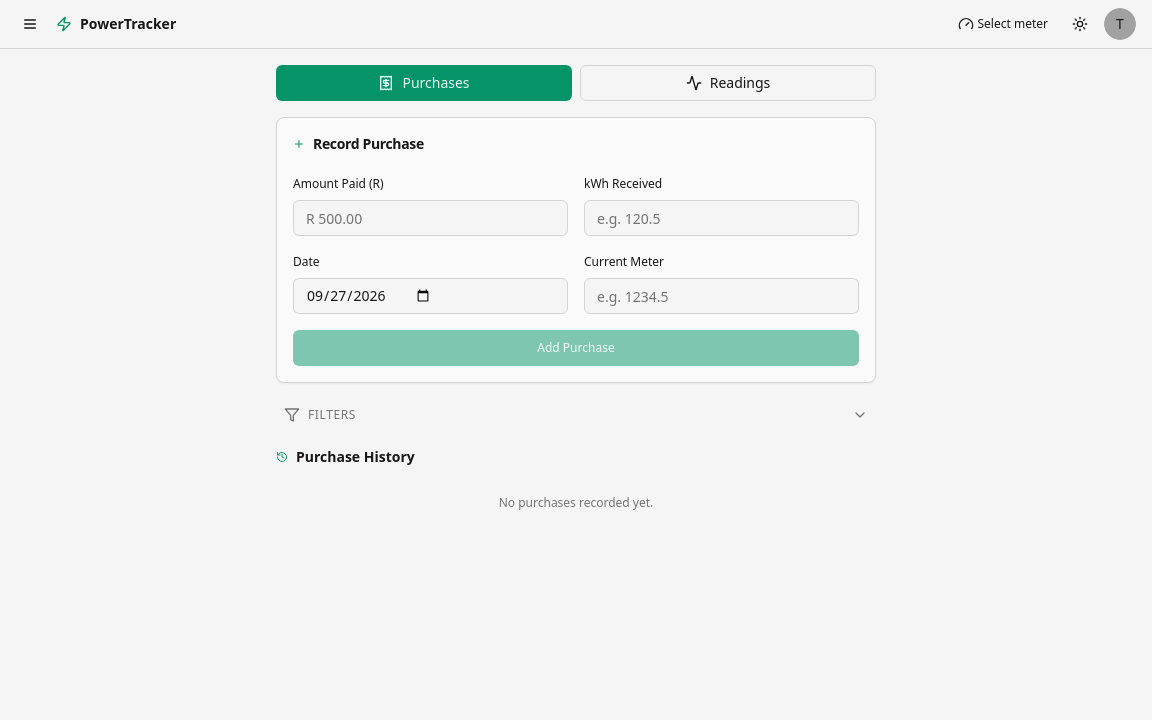
Test case: HistoryPage › switches to readings tab and displays empty state
The image size is (1152, 720).
Click the button "Readings": {"x": 728, "y": 83} x1=580 y1=65 x2=876 y2=101
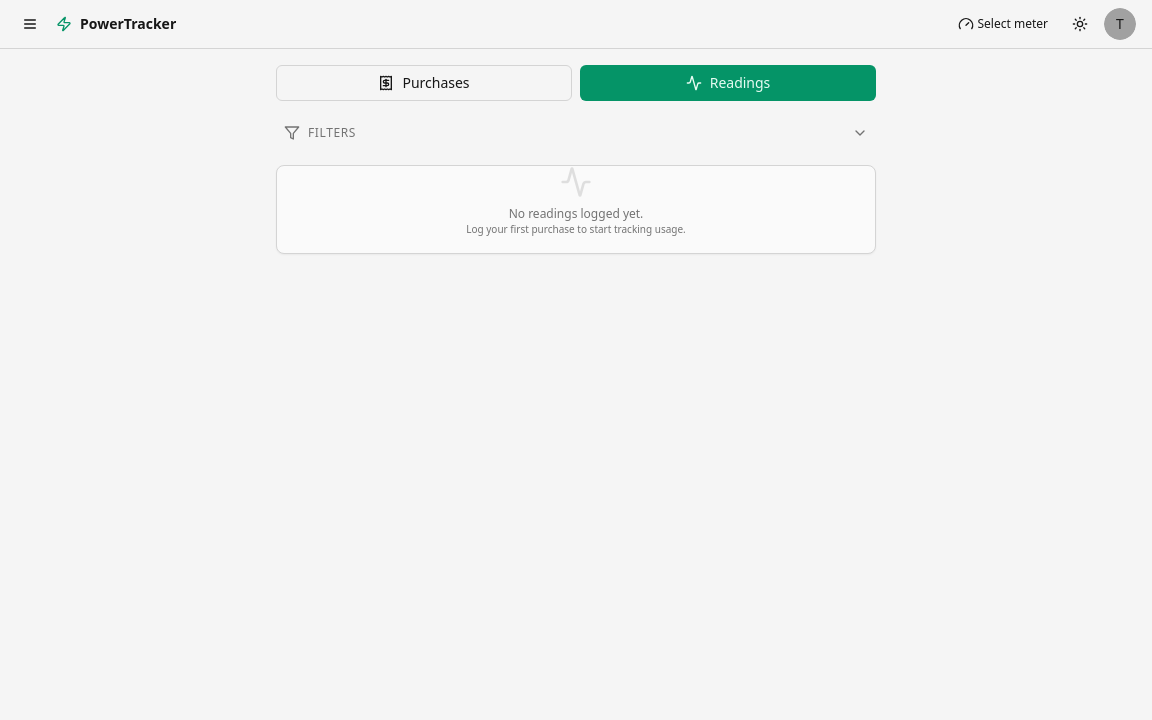
Result: the text "No readings logged yet." is shown at x1=509 y1=206 x2=643 y2=222
